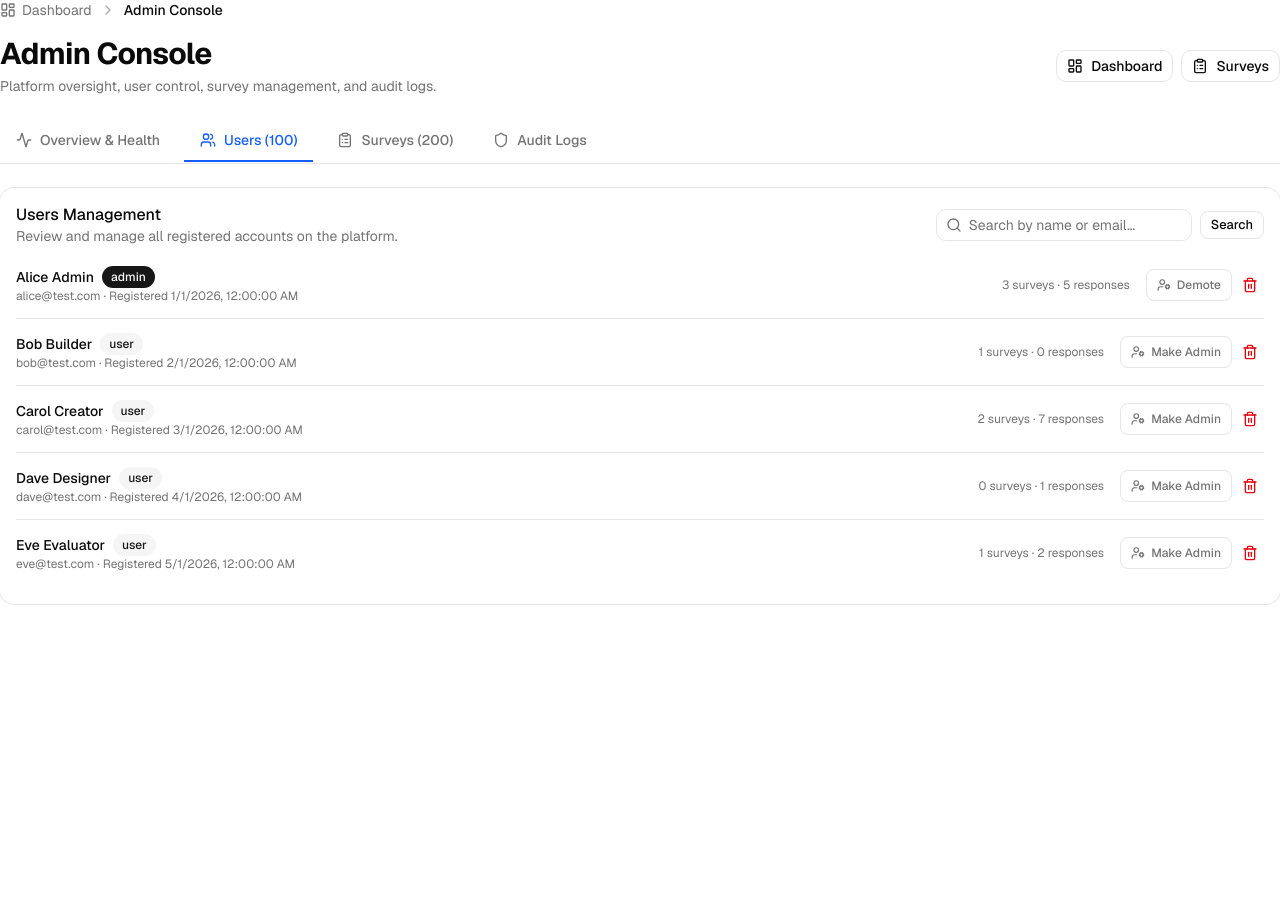
Scenario: AdminPage › cancels the deletion dialog
The width and height of the screenshot is (1280, 900).
Click the button named "Deactivate Bob Builder" at x=1250, y=352, box [1236,338,1264,366]
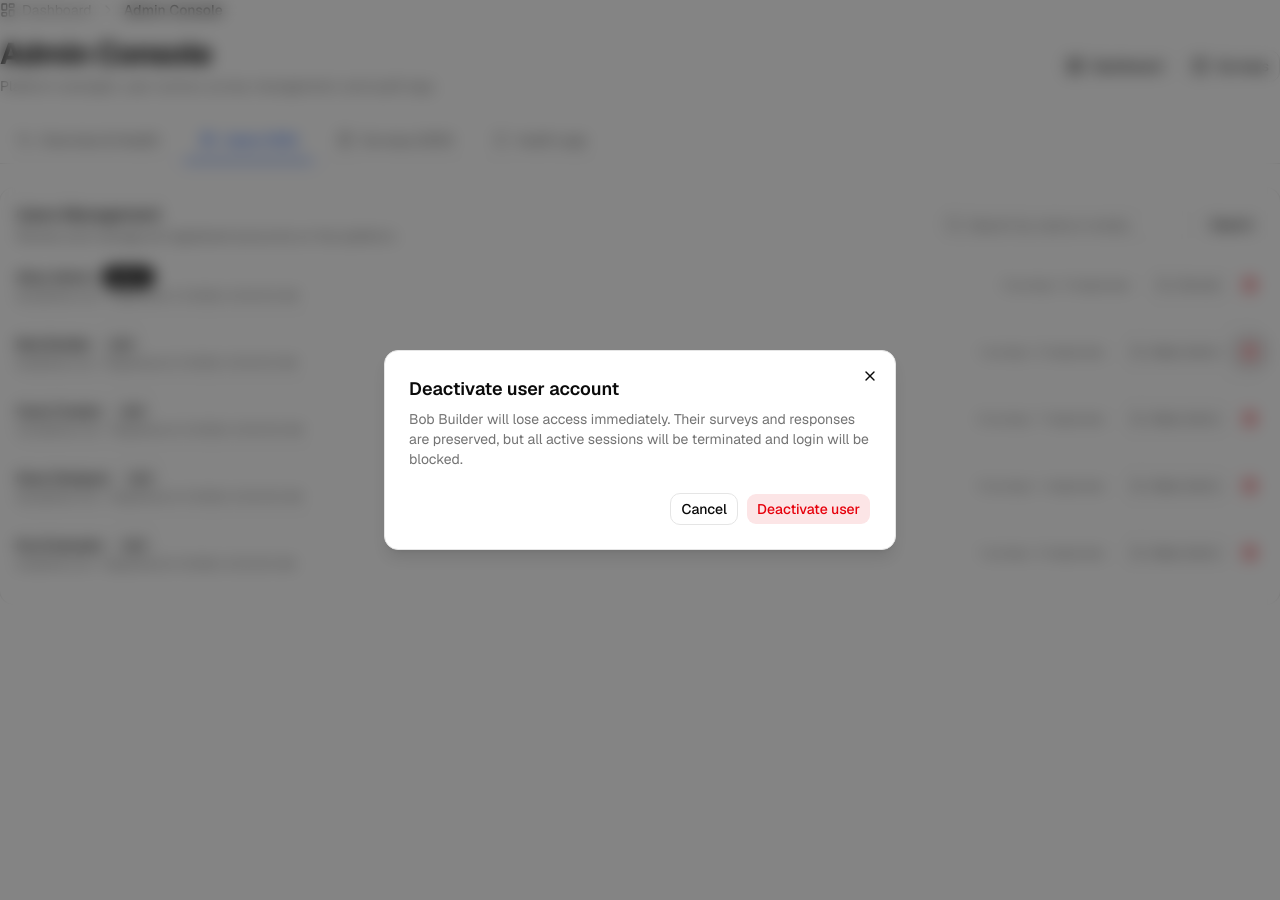
Click the button "Cancel" at x=704, y=509, box [670,493,738,525]
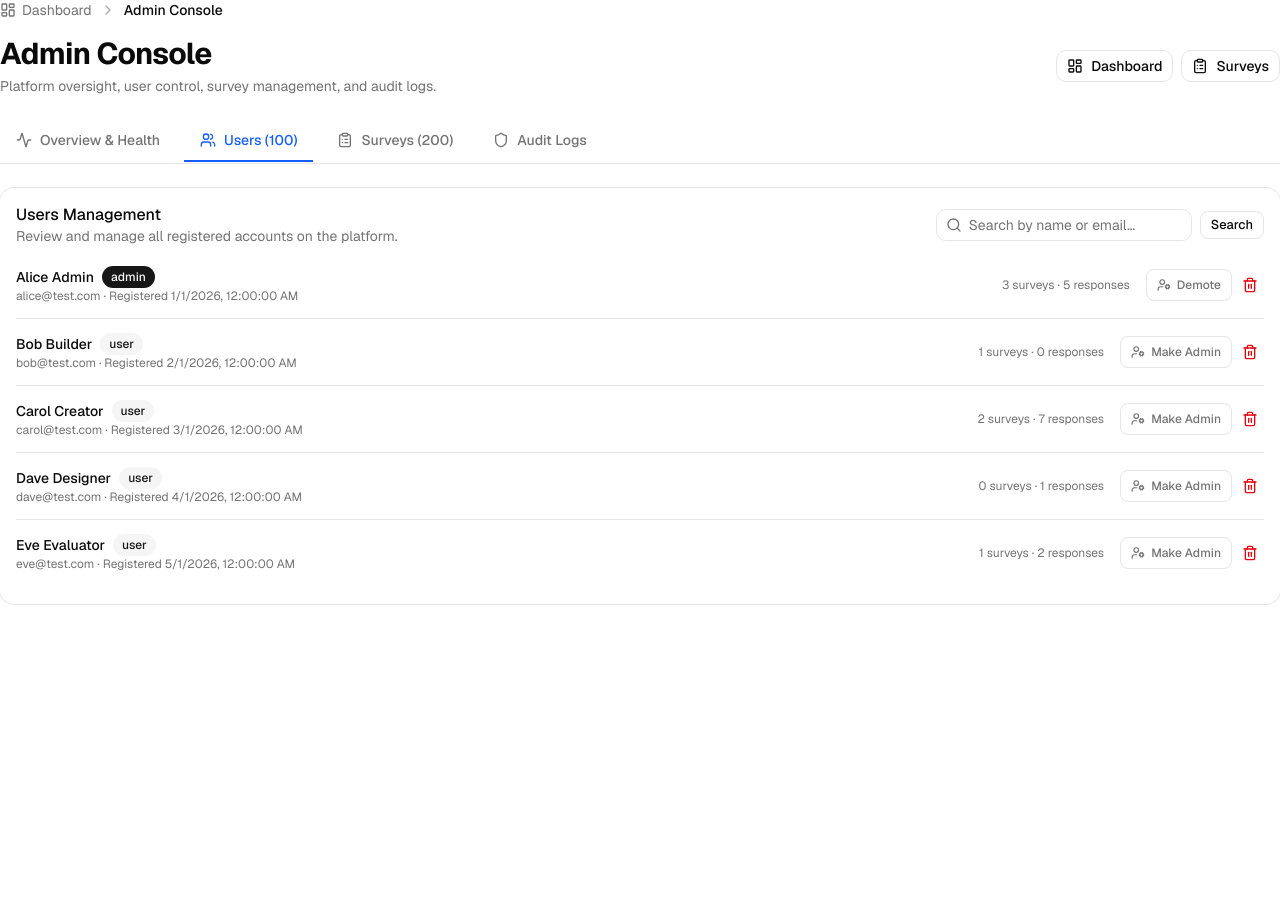
expect the text "Bob Builder" is shown: met, box [16,334,92,354]
expect the heading "Deactivate user account" is gone: met
